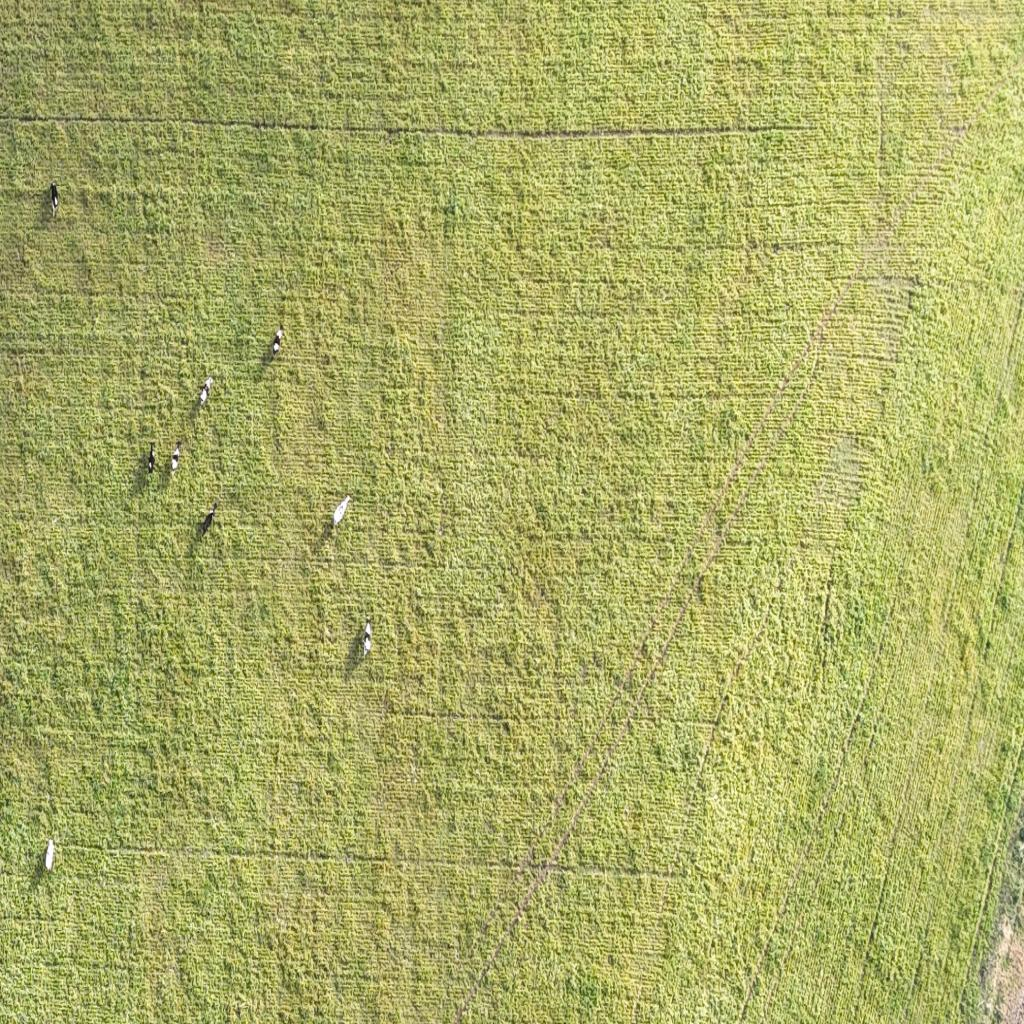cow: (333, 494, 351, 526), (203, 502, 217, 534), (198, 376, 212, 406), (44, 838, 56, 872), (273, 324, 285, 356), (363, 620, 372, 658), (170, 441, 180, 475), (50, 182, 59, 218), (148, 443, 156, 476)
